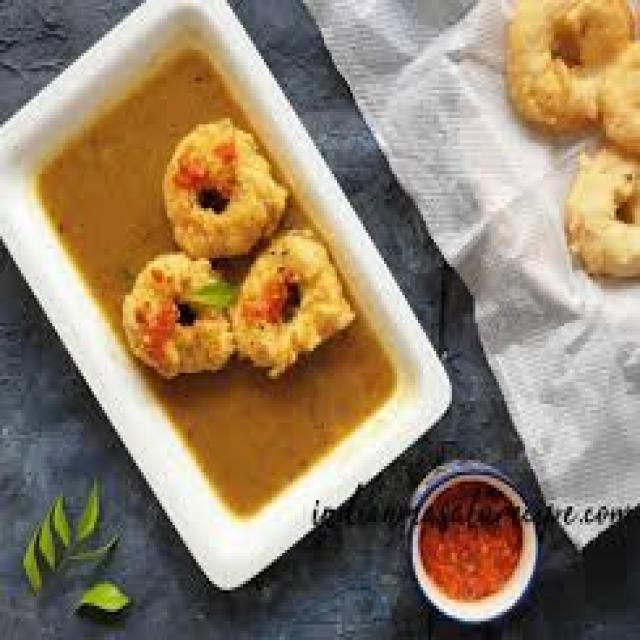MEDU VADA: (165, 115, 283, 262), (235, 236, 349, 377), (124, 255, 237, 378)
